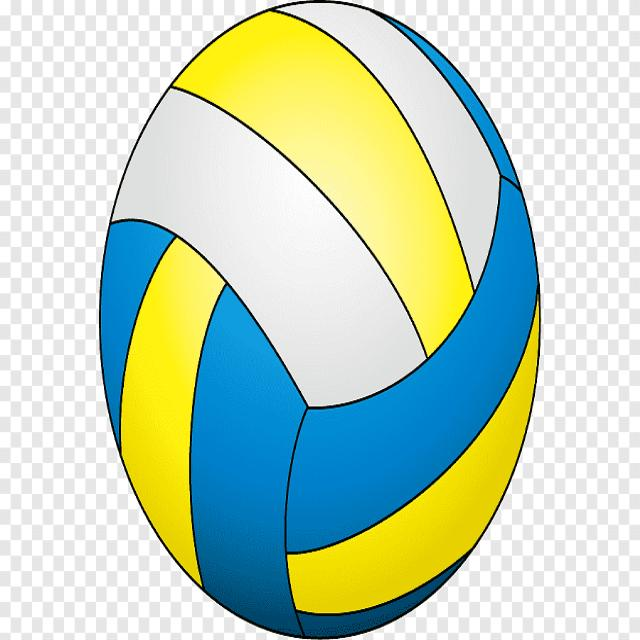Volleyball: (95, 1, 541, 638)
